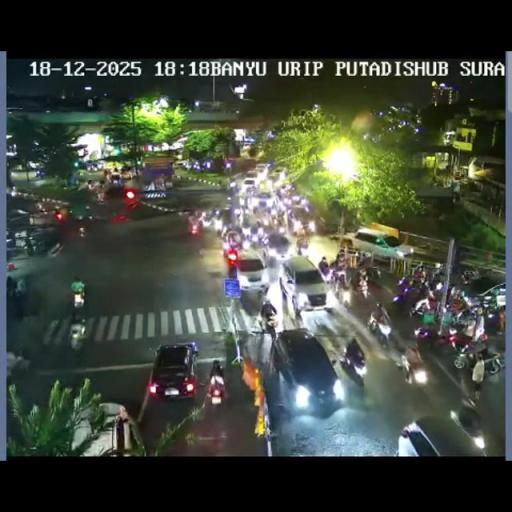Car: (271, 328, 341, 415), (74, 402, 142, 456), (397, 414, 485, 454), (334, 223, 414, 263), (148, 342, 198, 400), (280, 254, 326, 312), (234, 246, 267, 293), (266, 232, 291, 258), (252, 191, 274, 211), (224, 229, 242, 250), (252, 163, 270, 182), (187, 216, 202, 234), (242, 178, 258, 194), (270, 166, 286, 182), (108, 176, 123, 192), (174, 160, 190, 168)
Motorcycle: (414, 322, 456, 350), (338, 347, 364, 387), (402, 343, 426, 385), (448, 306, 479, 338), (391, 277, 421, 308), (452, 343, 483, 371), (368, 309, 392, 345), (478, 348, 504, 376), (207, 369, 225, 404), (484, 304, 505, 333), (70, 275, 86, 308), (337, 278, 354, 308), (247, 226, 270, 248), (413, 292, 434, 316), (260, 301, 276, 332), (68, 327, 86, 352), (449, 290, 467, 313), (355, 277, 372, 301), (428, 272, 446, 293), (362, 262, 380, 282), (225, 246, 239, 270), (4, 236, 18, 259), (459, 269, 479, 285), (47, 240, 65, 257), (6, 276, 17, 298), (318, 262, 331, 280), (412, 262, 426, 278), (23, 239, 35, 256), (334, 251, 345, 269), (290, 218, 304, 232), (297, 241, 308, 256), (451, 186, 460, 204), (96, 186, 106, 202), (78, 179, 90, 192), (214, 215, 223, 231), (227, 178, 236, 191), (307, 220, 315, 234), (278, 223, 286, 235), (78, 226, 86, 237)
